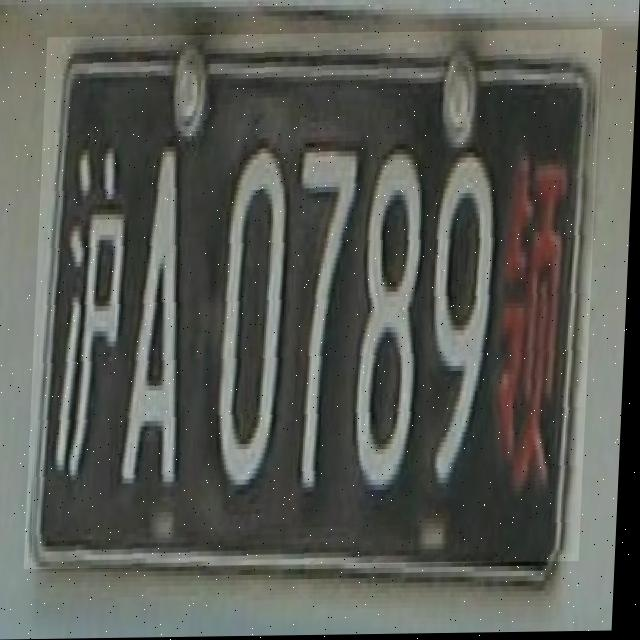LicensePlate: (29, 31, 603, 569)
